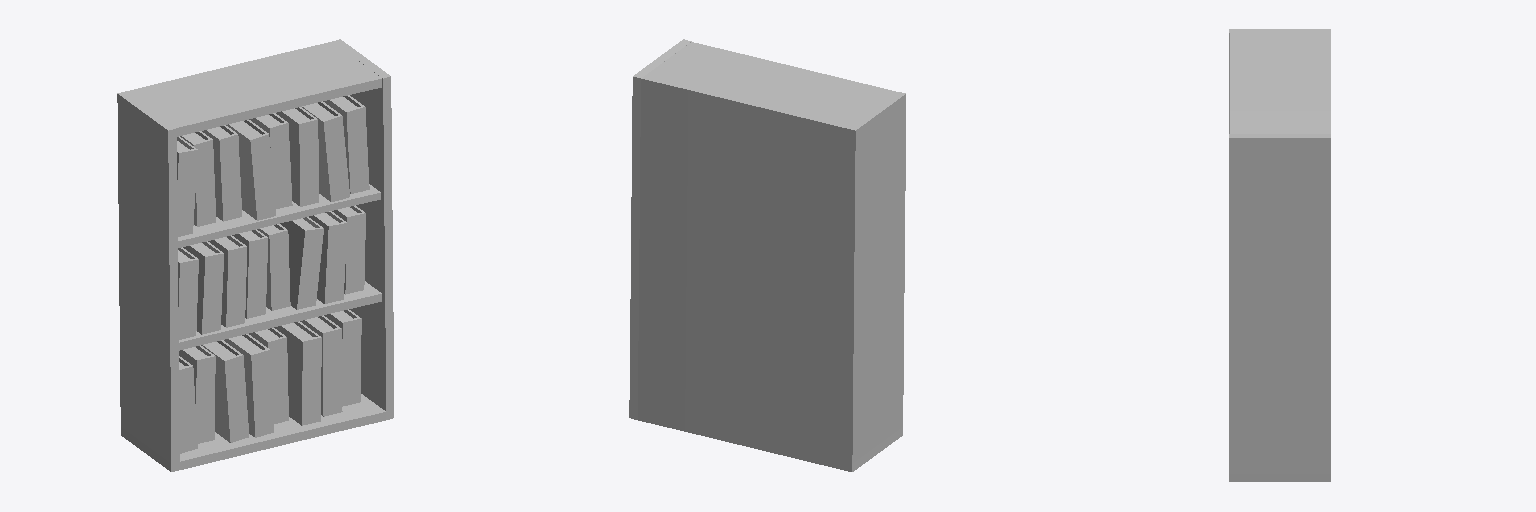
File: bookshelf2.obj
3 renders of one model, left to right at view 1: azimuth 30°, elevation 25°; view 2: azimuth 150°, elevation 25°; view 3: azimuth 270°, elevation 25°, orthographic.
Visible parts, largest first — view 1: Shelf.001, Book.045, Book.027, Book.042, Book.029, Book.037, Book.043, Book.030, Book.026, Book.038, Book.033, Book.031 (+13 smaller); view 2: Shelf.001; view 3: Shelf.001.
Part boxes in pixels (bbox=[...]): Shelf.001: bbox=[117, 39, 393, 471]; Book.045: bbox=[274, 321, 321, 425]; Book.027: bbox=[226, 120, 275, 220]; Book.042: bbox=[201, 340, 248, 442]; Book.029: bbox=[276, 107, 318, 206]; Book.037: bbox=[280, 217, 323, 309]; Book.043: bbox=[224, 334, 273, 437]; Book.030: bbox=[302, 101, 349, 201]; Book.026: bbox=[202, 125, 241, 221]; Book.038: bbox=[309, 211, 347, 303]; Book.033: bbox=[183, 241, 223, 334]; Book.031: bbox=[323, 95, 369, 193]; Shelf.001: bbox=[629, 39, 905, 471]; Shelf.001: bbox=[1229, 29, 1330, 481].
Size of the model in its own units: 1.99 by 2.88 by 0.775.